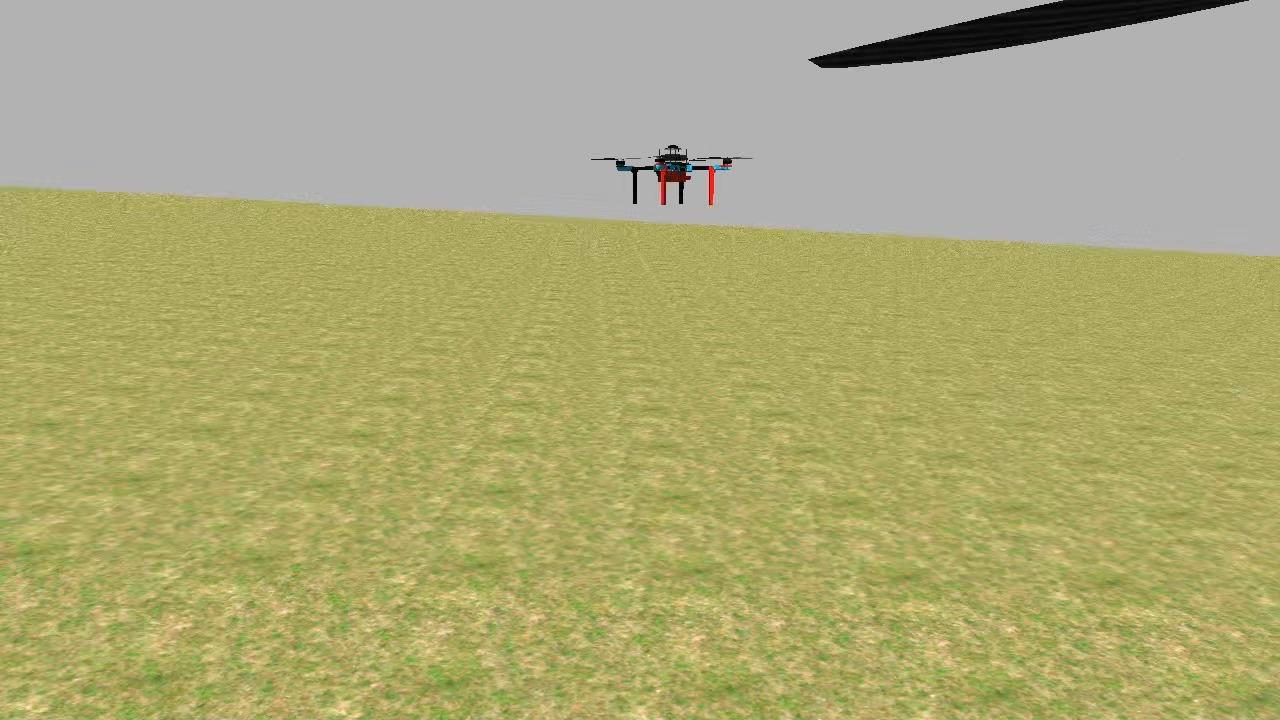UAV: (560, 117, 779, 229)
